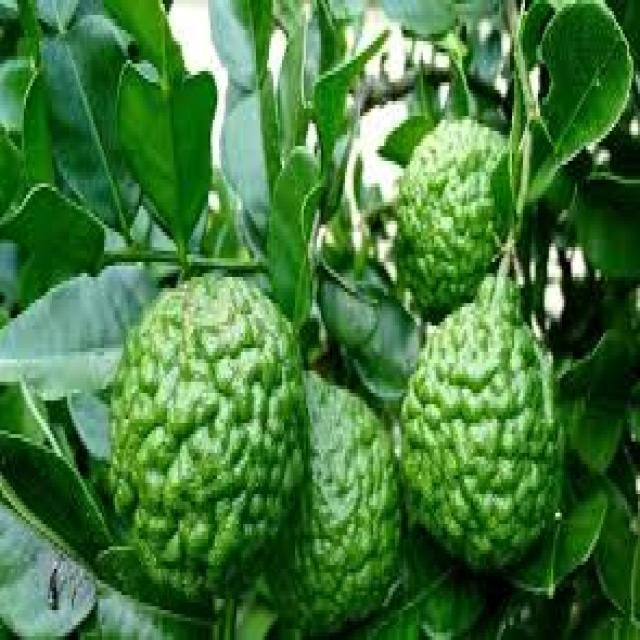Chuc: (104, 266, 308, 599), (397, 262, 562, 573), (264, 367, 404, 632), (393, 112, 514, 322)
